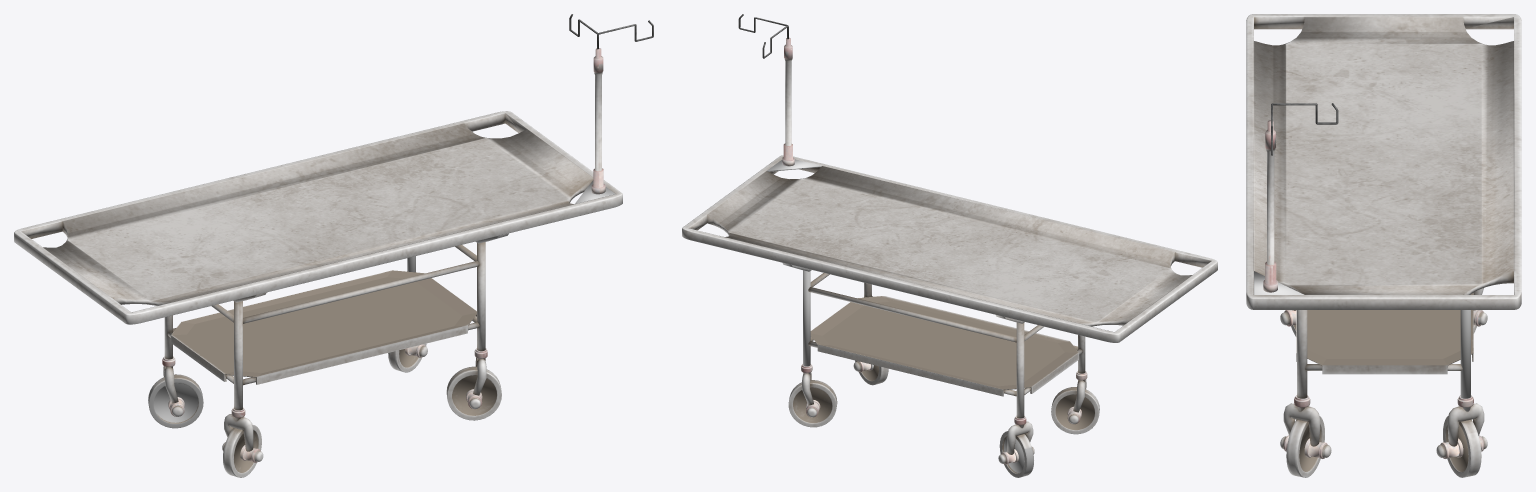
The model's file is stol_inny_kostnica.glb.
3 renders of one model, left to right at view 1: azimuth 30°, elevation 25°; view 2: azimuth 150°, elevation 25°; view 3: azimuth 270°, elevation 25°, orthographic. The views are drawn at different scales.
Visible parts, largest first — view 1: Cube.066; view 2: Cube.066; view 3: Cube.066.
Boxes of the visible parts, x1,y1,x2,y2 form: Cube.066: (14,14,653,477); Cube.066: (682,14,1217,477); Cube.066: (1246,14,1521,477).
Size of the model in its own units: 14.43 by 9.5 by 5.46.
1 material, 1 textured.
